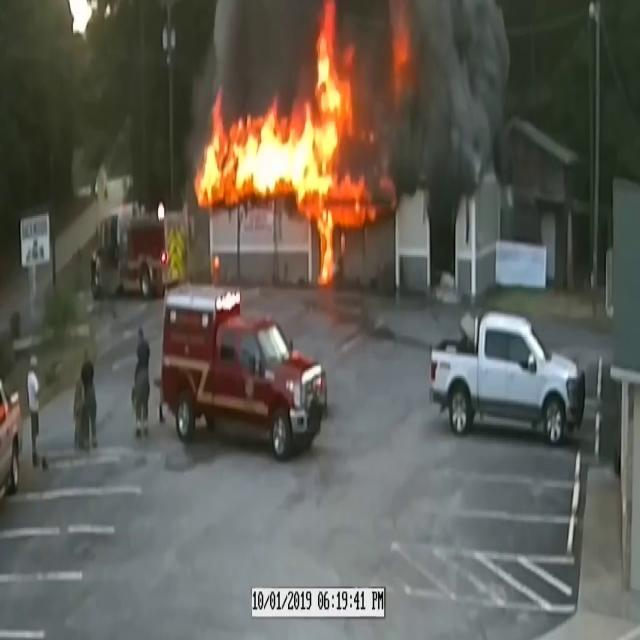Fire: (196, 15, 372, 254)
Smoke: (344, 0, 516, 230)
